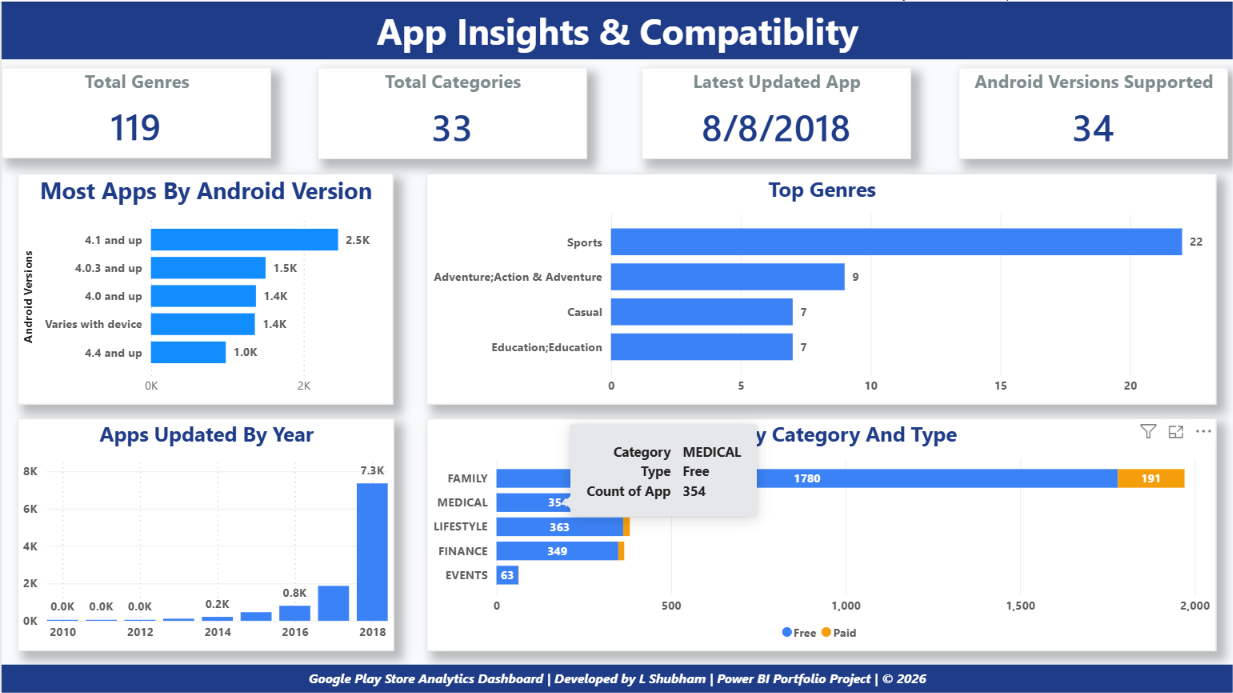

The dashboard page shown, as its layout file describes it:
{"tool":"powerbi","page":{"name":"App Insights & Compatiblity","canvas":[1280,720],"ordinal":3},"visuals":[{"type":"textbox","box":[9.8,0,128,60.2],"z":0},{"type":"textbox","box":[0,0,1280.3,60],"z":1000},{"type":"cardVisual","title":"Total Genres","fields":{"Data":["Measures .Total Genres"]},"box":[0,68.6,279.9,94.7],"z":2000},{"type":"cardVisual","title":"Total Categories","fields":{"Data":["Measures .Total Distinct Categories"]},"box":[328.3,68.7,280,95],"z":3000},{"type":"cardVisual","title":"Android Versions Supported","fields":{"Data":["Measures .Android Versions"]},"box":[994.6,68.7,280,95],"z":4000},{"type":"cardVisual","title":"Latest Updated App","fields":{"Data":["Measures .Latest Updated App"]},"box":[665.5,68.7,280,95],"z":5000},{"type":"clusteredBarChart","title":"Most Apps By Android Version","fields":{"Category":["Apps.Android Ver"],"Y":["CountNonNull(Apps.App)"]},"box":[16.5,178.4,390,240],"z":6000},{"type":"clusteredBarChart","title":"Top Genres","fields":{"Category":["Apps.Genres"],"Y":["CountNonNull(Apps.App)"]},"box":[441.9,178.4,820.6,240.1],"z":7000},{"type":"clusteredColumnChart","title":"Apps Updated By Year","fields":{"Y":["CountNonNull(Apps.App)"],"Category":["Apps.UpdateYear"]},"box":[16.5,433.6,391.1,241.5],"z":8000},{"type":"barChart","title":"Apps By Category And Type","fields":{"Category":["Apps.Category"],"Y":["CountNonNull(Apps.App)"],"Series":["Apps.Type"]},"box":[441.9,433.6,820.6,241.5],"z":9000},{"type":"textbox","box":[0,688.9,1280.3,30],"z":9001}]}

Visuals, with their boxes in screenshot pixels (x1, y1, x2, y2), scaled from the page's 1280x720 canvas onto the 1233x693 screenshot:
textbox: {"left": 9, "top": 0, "right": 133, "bottom": 58}
textbox: {"left": 0, "top": 0, "right": 1232, "bottom": 58}
"Total Genres" cardVisual: {"left": 0, "top": 66, "right": 270, "bottom": 157}
"Total Categories" cardVisual: {"left": 316, "top": 66, "right": 586, "bottom": 158}
"Android Versions Supported" cardVisual: {"left": 958, "top": 66, "right": 1228, "bottom": 158}
"Latest Updated App" cardVisual: {"left": 641, "top": 66, "right": 911, "bottom": 158}
"Most Apps By Android Version" clusteredBarChart: {"left": 16, "top": 172, "right": 392, "bottom": 403}
"Top Genres" clusteredBarChart: {"left": 426, "top": 172, "right": 1216, "bottom": 403}
"Apps Updated By Year" clusteredColumnChart: {"left": 16, "top": 417, "right": 393, "bottom": 650}
"Apps By Category And Type" barChart: {"left": 426, "top": 417, "right": 1216, "bottom": 650}
textbox: {"left": 0, "top": 663, "right": 1232, "bottom": 692}
